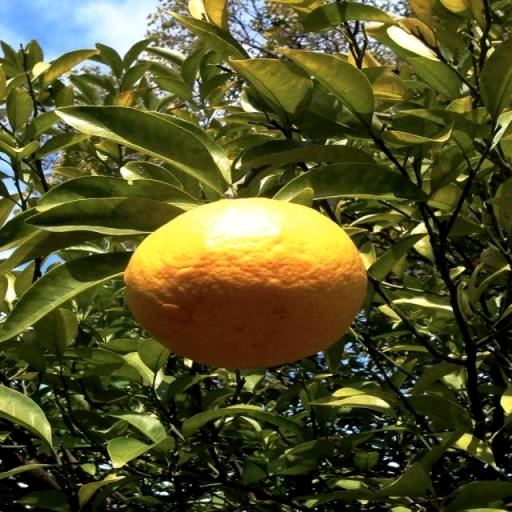fruit: (124, 199, 366, 368)
